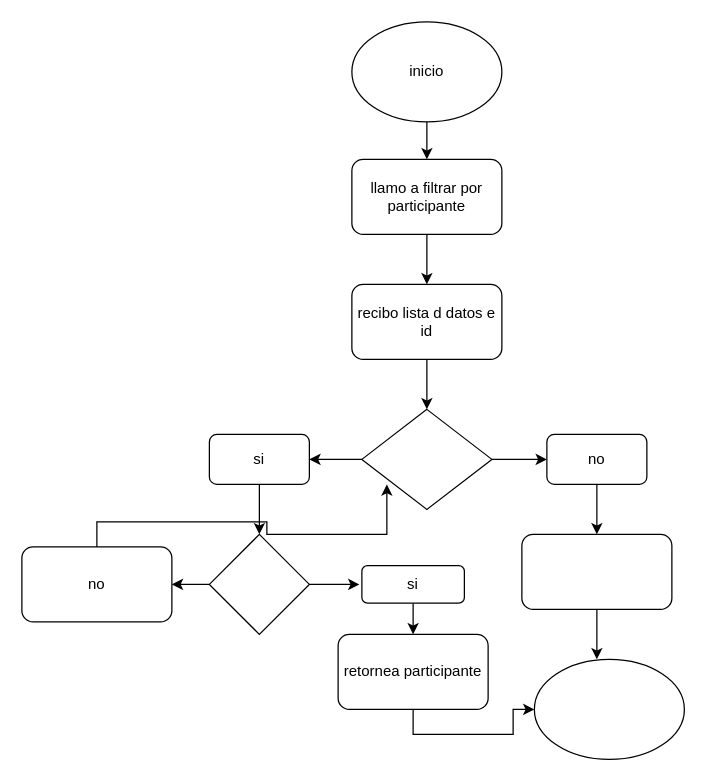
Some shapes in this 706 by 781 pixel diagram are drawn without their labels. Here are the shapes that lost their labels. From the top down, the centre of each, then its label:
At (x=426, y=458): "hay mas participantes en datos".
At (x=258, y=583): "participante tiene datos".
At (x=596, y=571): "reornear None".
At (x=608, y=708): "fin".
